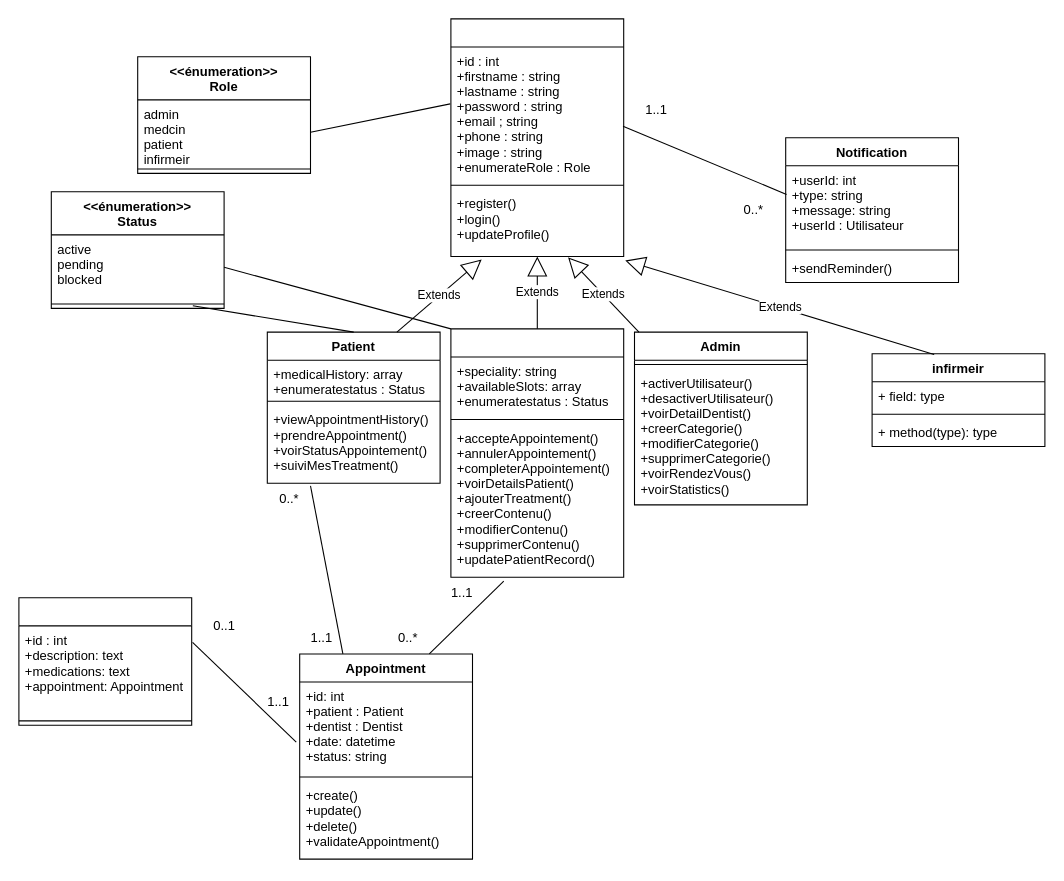
Some shapes in this 1064 by 881 pixel diagram are drawn without their labels. The shapes that lost their labels are listed below. From the top down, each one's box as (x1, y1, x2, y2) in pixels, then its label:
(450, 18, 624, 256): Utilisateur
(450, 328, 624, 577): medcin
(18, 597, 192, 725): dossier
